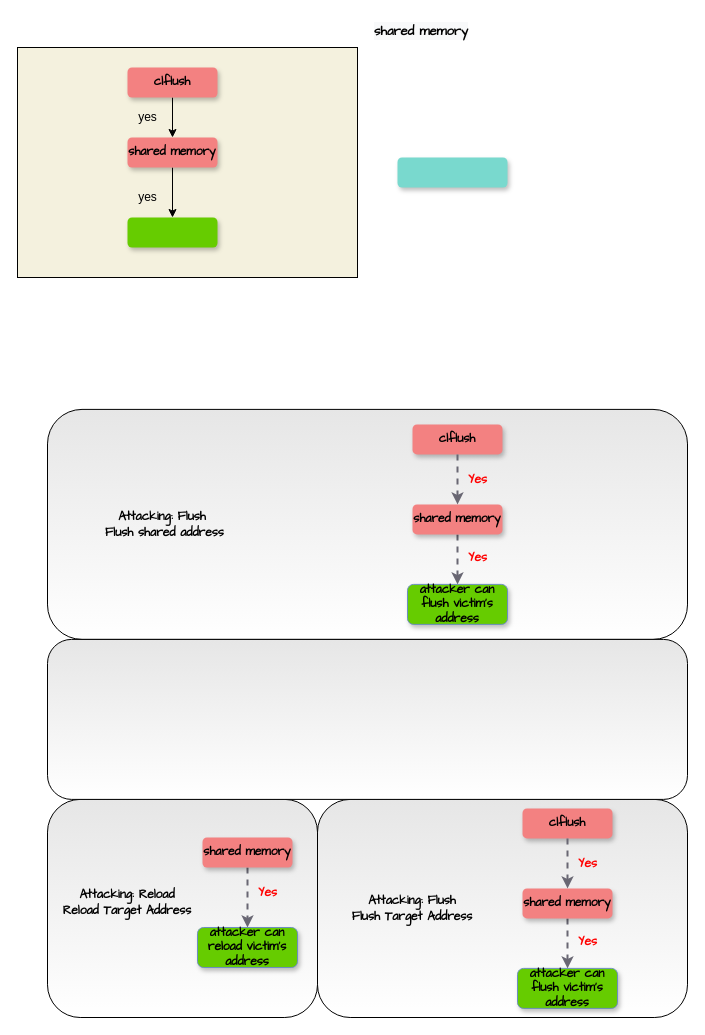
This 705x1035 diagram has some shape labels left out. The shapes that lost their labels are listed below. From the top down, each one's centre as x and y in pixels, then its label:
At point (453, 173): "Flush + Reload".
At point (173, 233): "attacker can flush victim".
At point (367, 718): "Attacking Wait the Victim".
